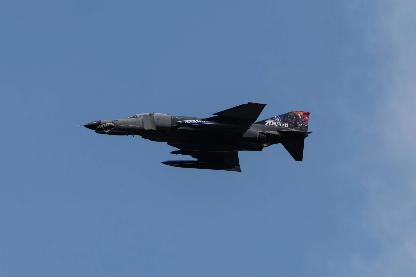F35: (76, 102, 312, 171)
